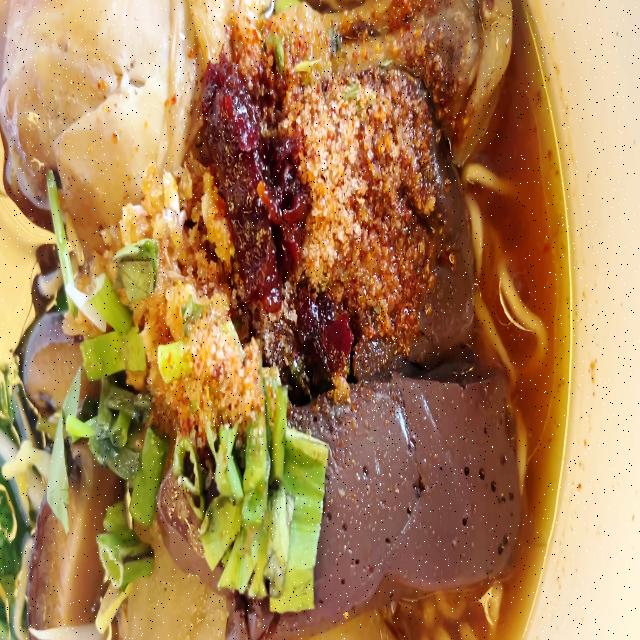boiled_chicken_blood_jelly: (324, 396, 522, 589), (423, 152, 472, 353)
chicken_drumstick: (0, 0, 520, 208)
daikon_radish: (115, 529, 231, 640)
noodle: (0, 0, 560, 640)
